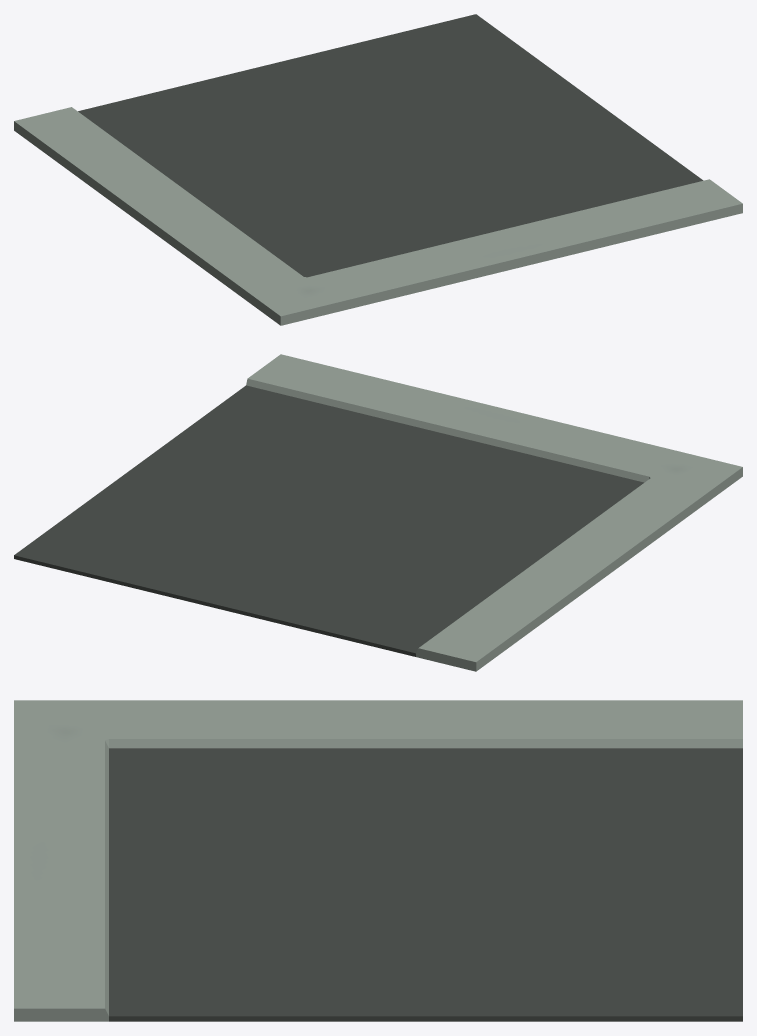
The model's file is road.002.obj.
3 views of the same model, one above another, from view 1: azimuth 30°, elevation 25°; view 2: azimuth 150°, elevation 25°; view 3: azimuth 270°, elevation 25° (orthographic). The views are drawn at different scales.
Visible parts, largest first — view 1: Road.002; view 2: Road.002; view 3: Road.002.
Part boxes in pixels (<box>): Road.002: <box>14,14,742,325</box>; Road.002: <box>14,354,742,671</box>; Road.002: <box>14,700,742,1021</box>.
Size of the model in its own units: 2 by 0.0393 by 2.
1 material, 1 textured.
